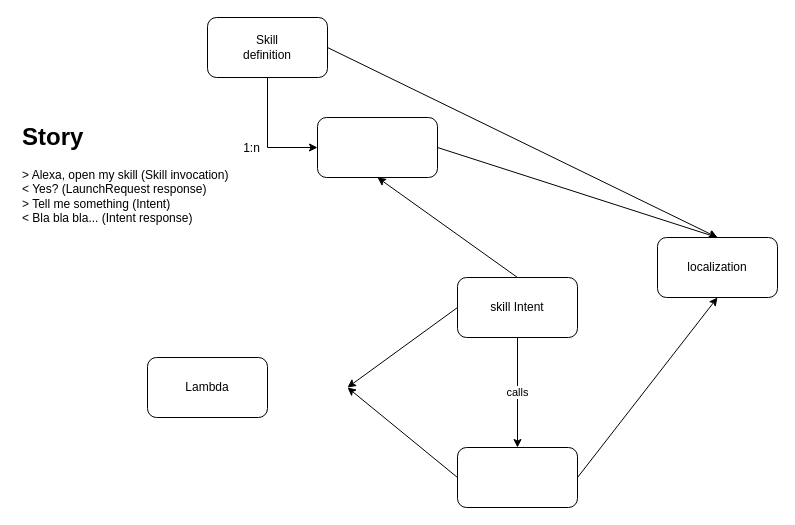
The diagram is 795 pixels wide and 525 high, and some of its shapes have lost their labels. Here are the shapes that lost their labels. From the top down, the centre of each, then its label:
the point at 377,147: InteractionModel definition
the point at 517,477: app Intent function
